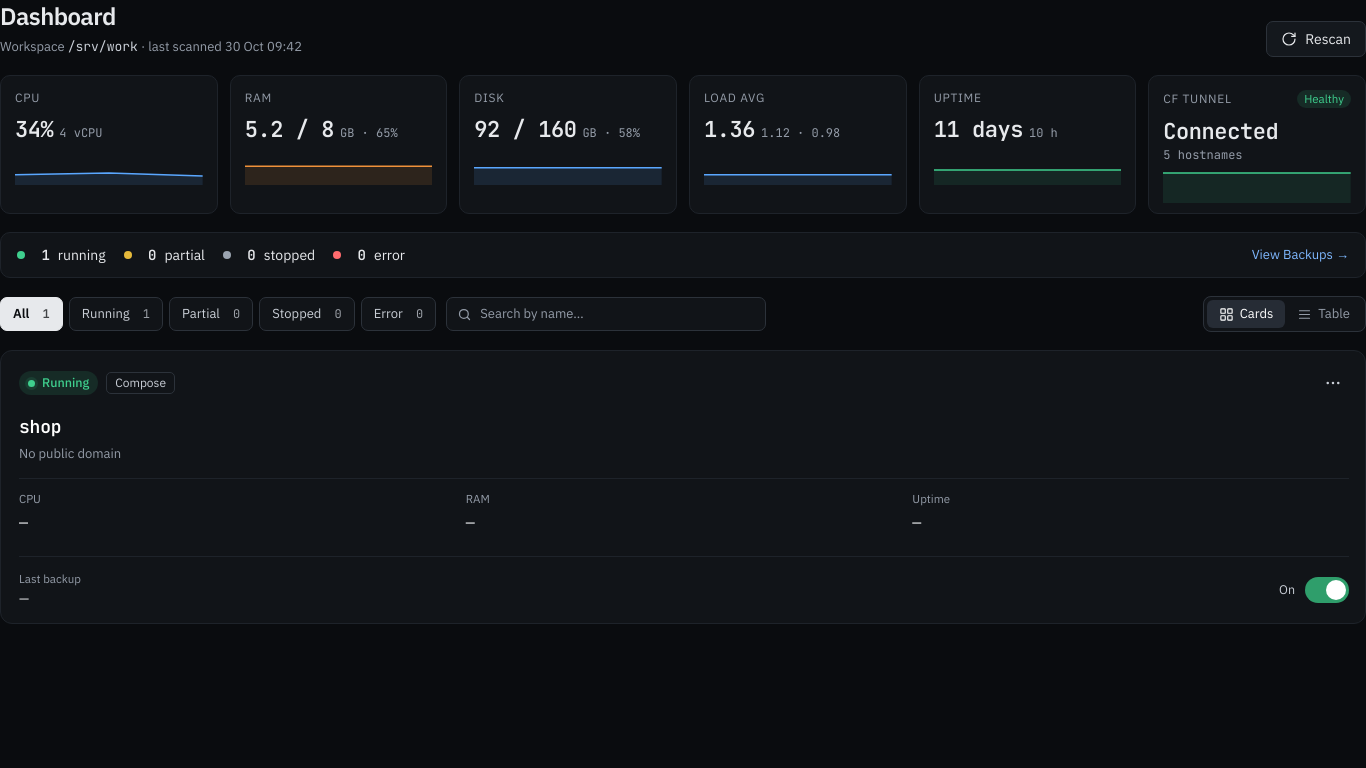
Test: DashboardPage › shows docker compose down in the stop dialog for a down template
Click the switch named "Stop shop": (1327, 590) x1=1305 y1=577 x2=1349 y2=603
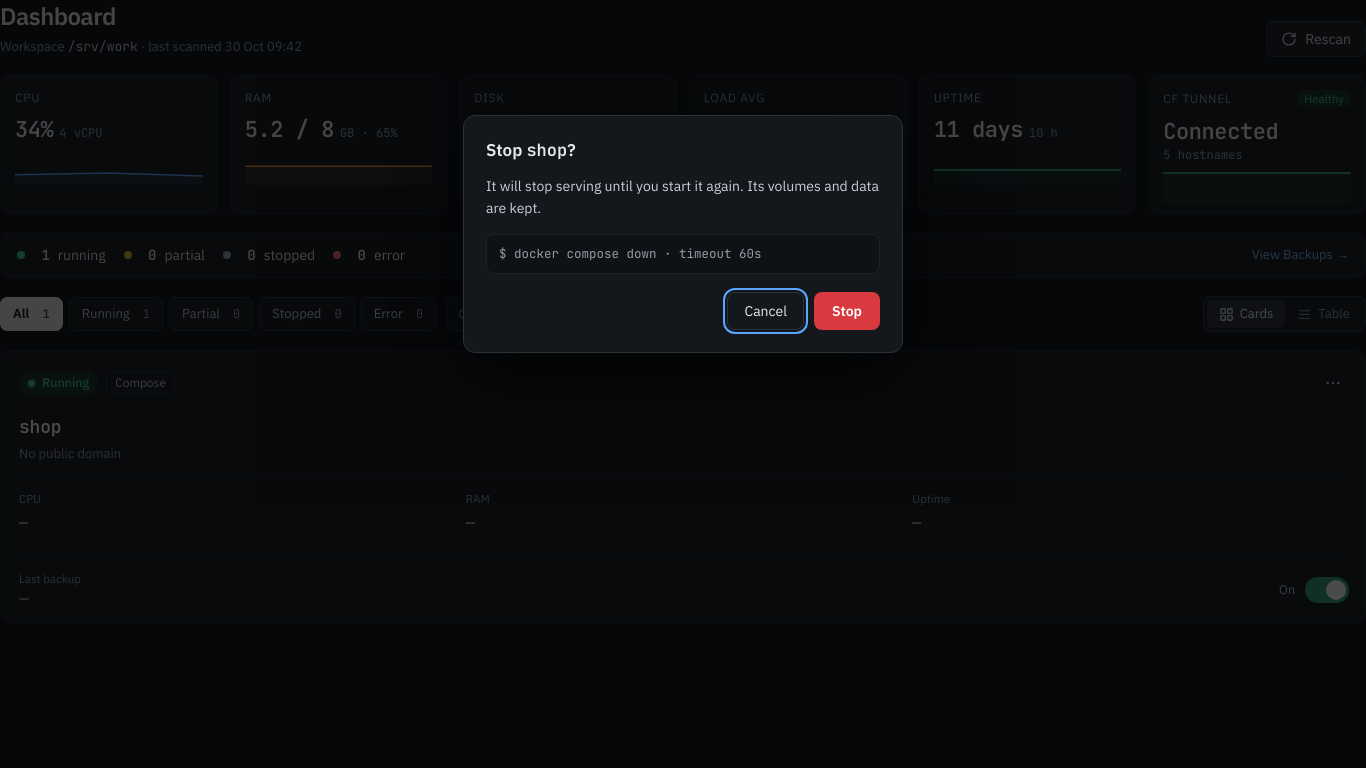
Result: the dialog shows "$ docker compose down · timeout 60s" at x1=499 y1=245 x2=762 y2=262
